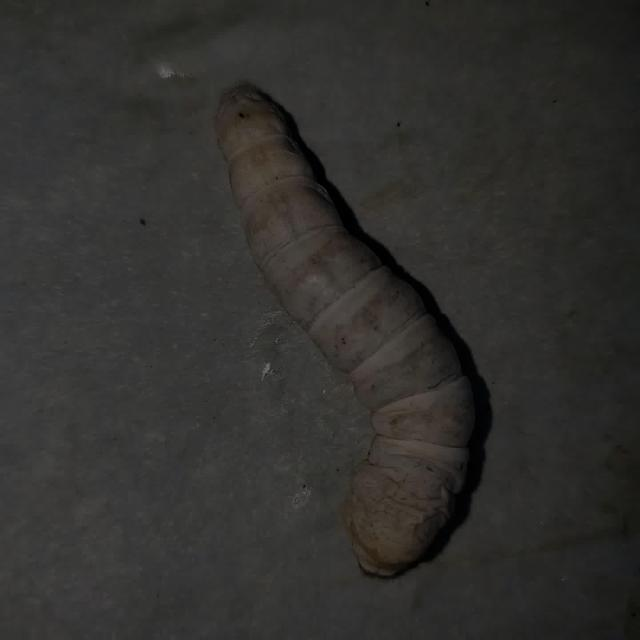Grasserie: (204, 71, 506, 587)
